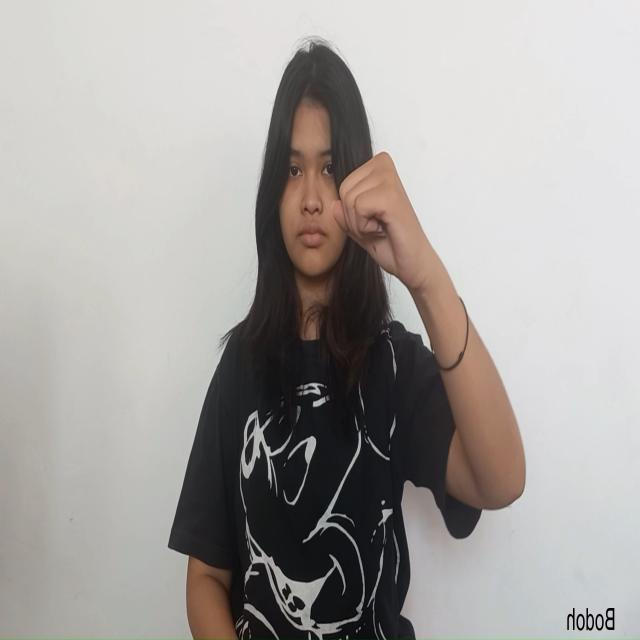Bodoh -BISINDO-: (329, 148, 430, 292)
